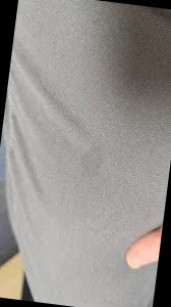oil: (78, 140, 113, 182)
